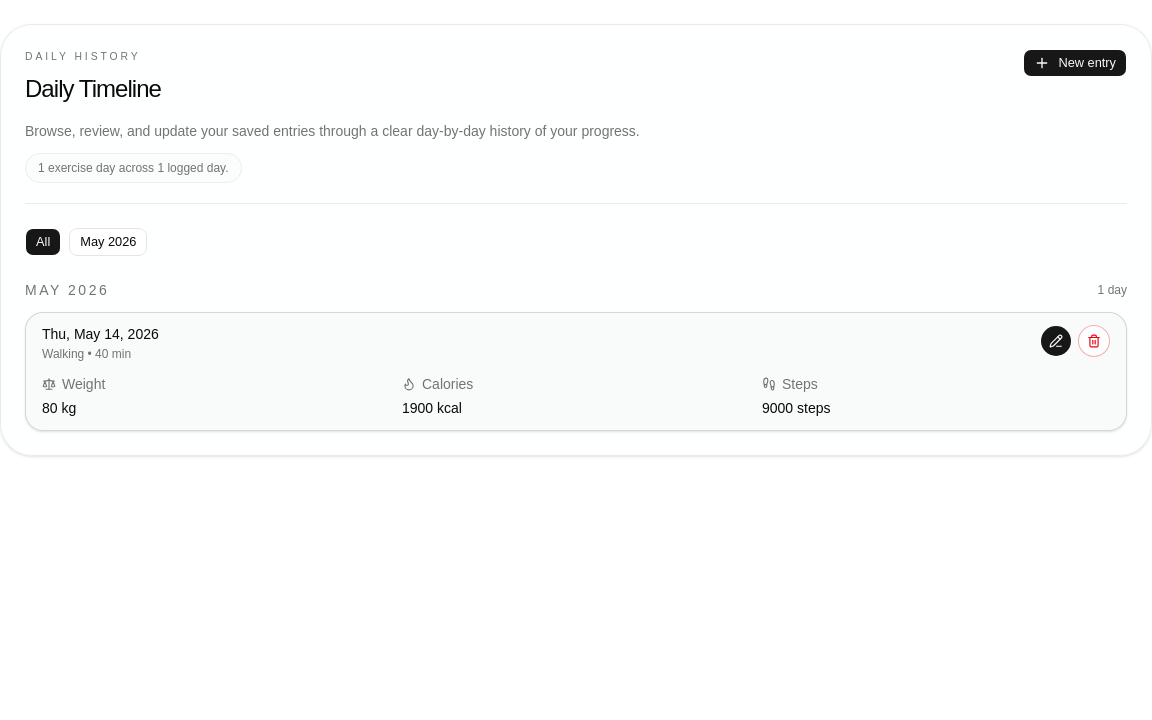
DailyHistoryPage › restores persisted values when discarding changes in edit mode
Click the button named "edit": click(1056, 341) [1040,325,1072,357]
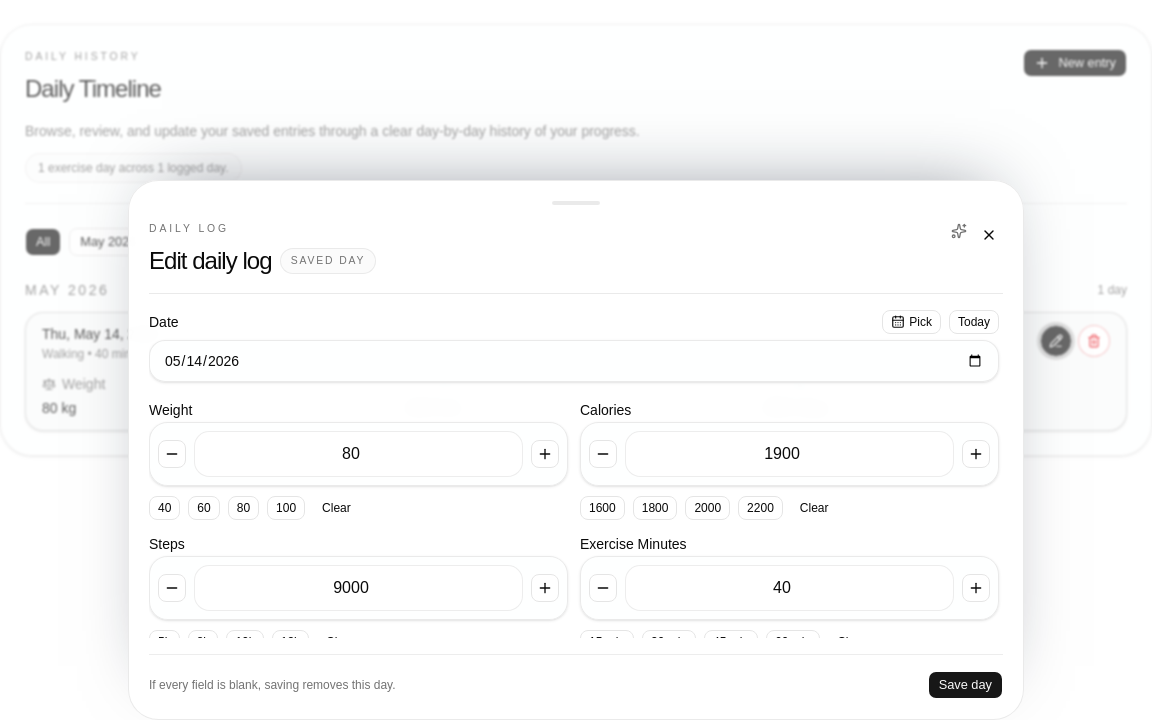
Replace the text in the number field labelled "Weight" with "81.2": (358, 454) [194,431,523,477]
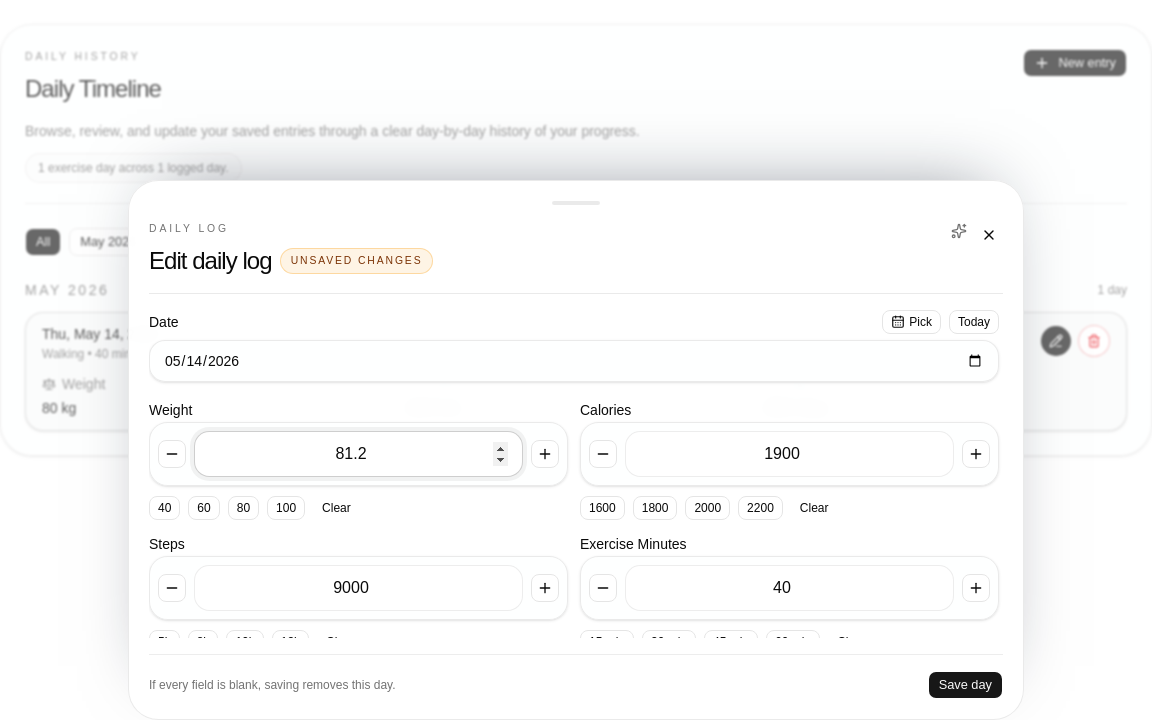
Click the button named "close daily log": click(989, 236) [975,222,1003,250]
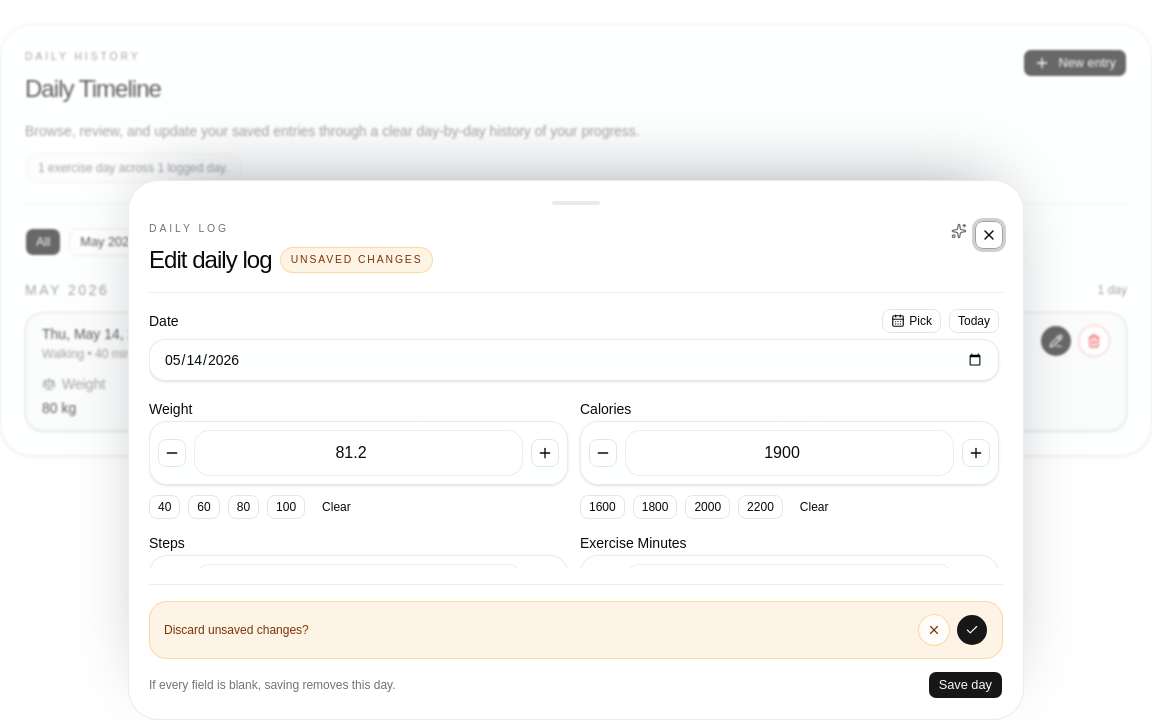
Click the button named "discard changes": click(972, 630) [956,614,988,646]
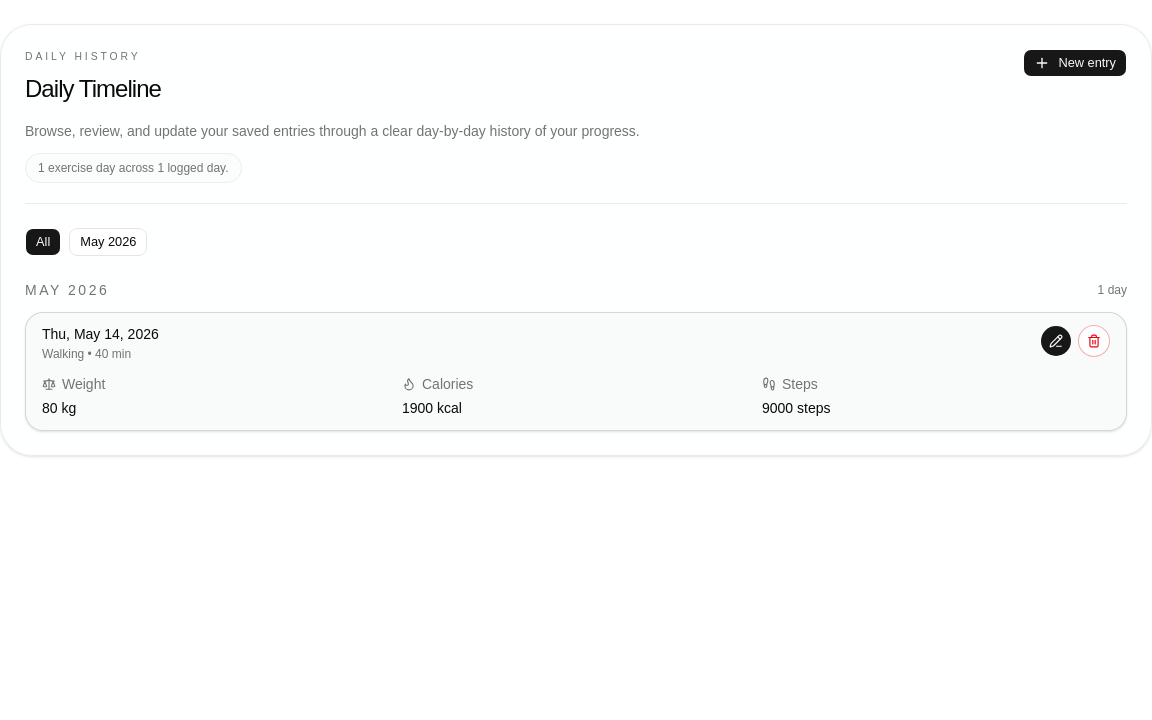
Check: the text "Daily log" is gone
Click the button named "edit": click(1056, 341) [1040,325,1072,357]
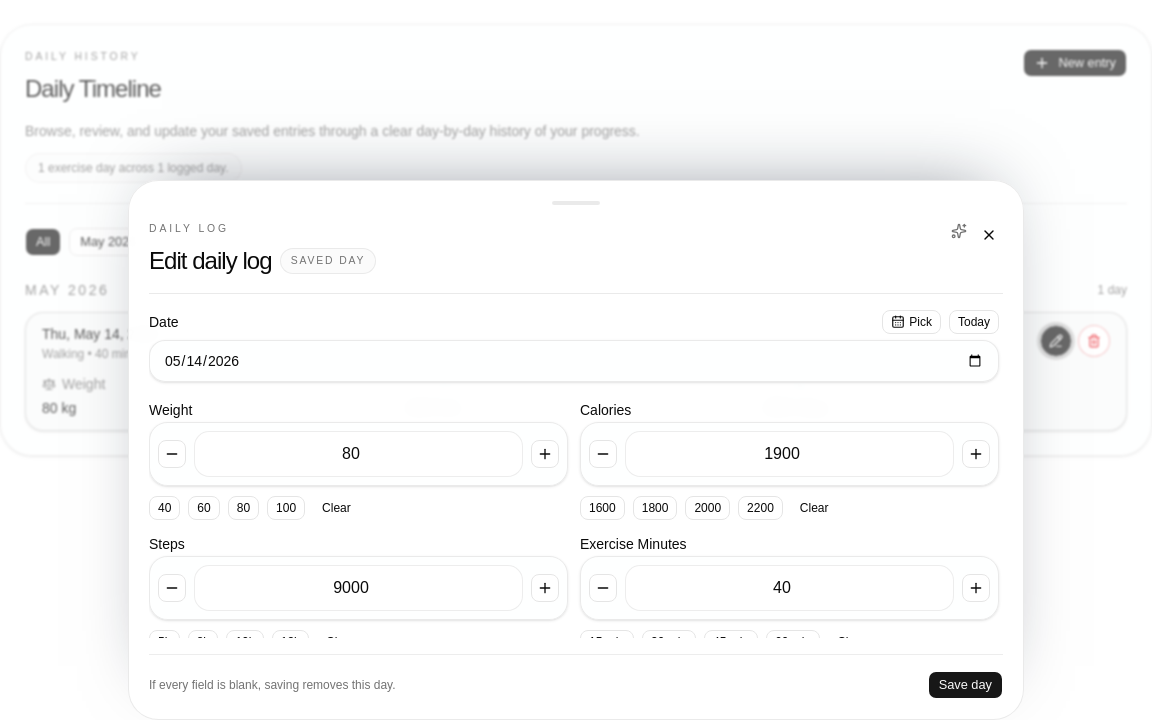
Check: the number field labelled "Weight" holds "80", box [194,431,523,477]
